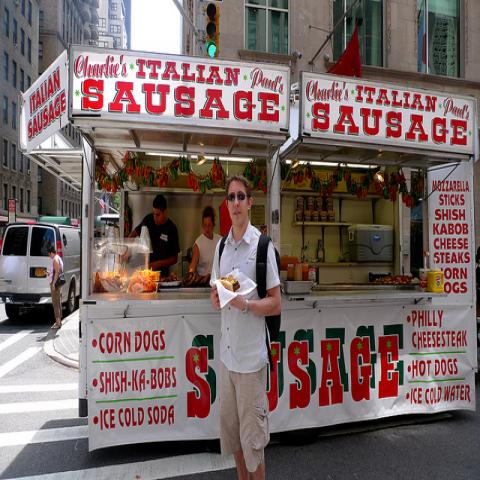truck: (0, 220, 81, 324)
